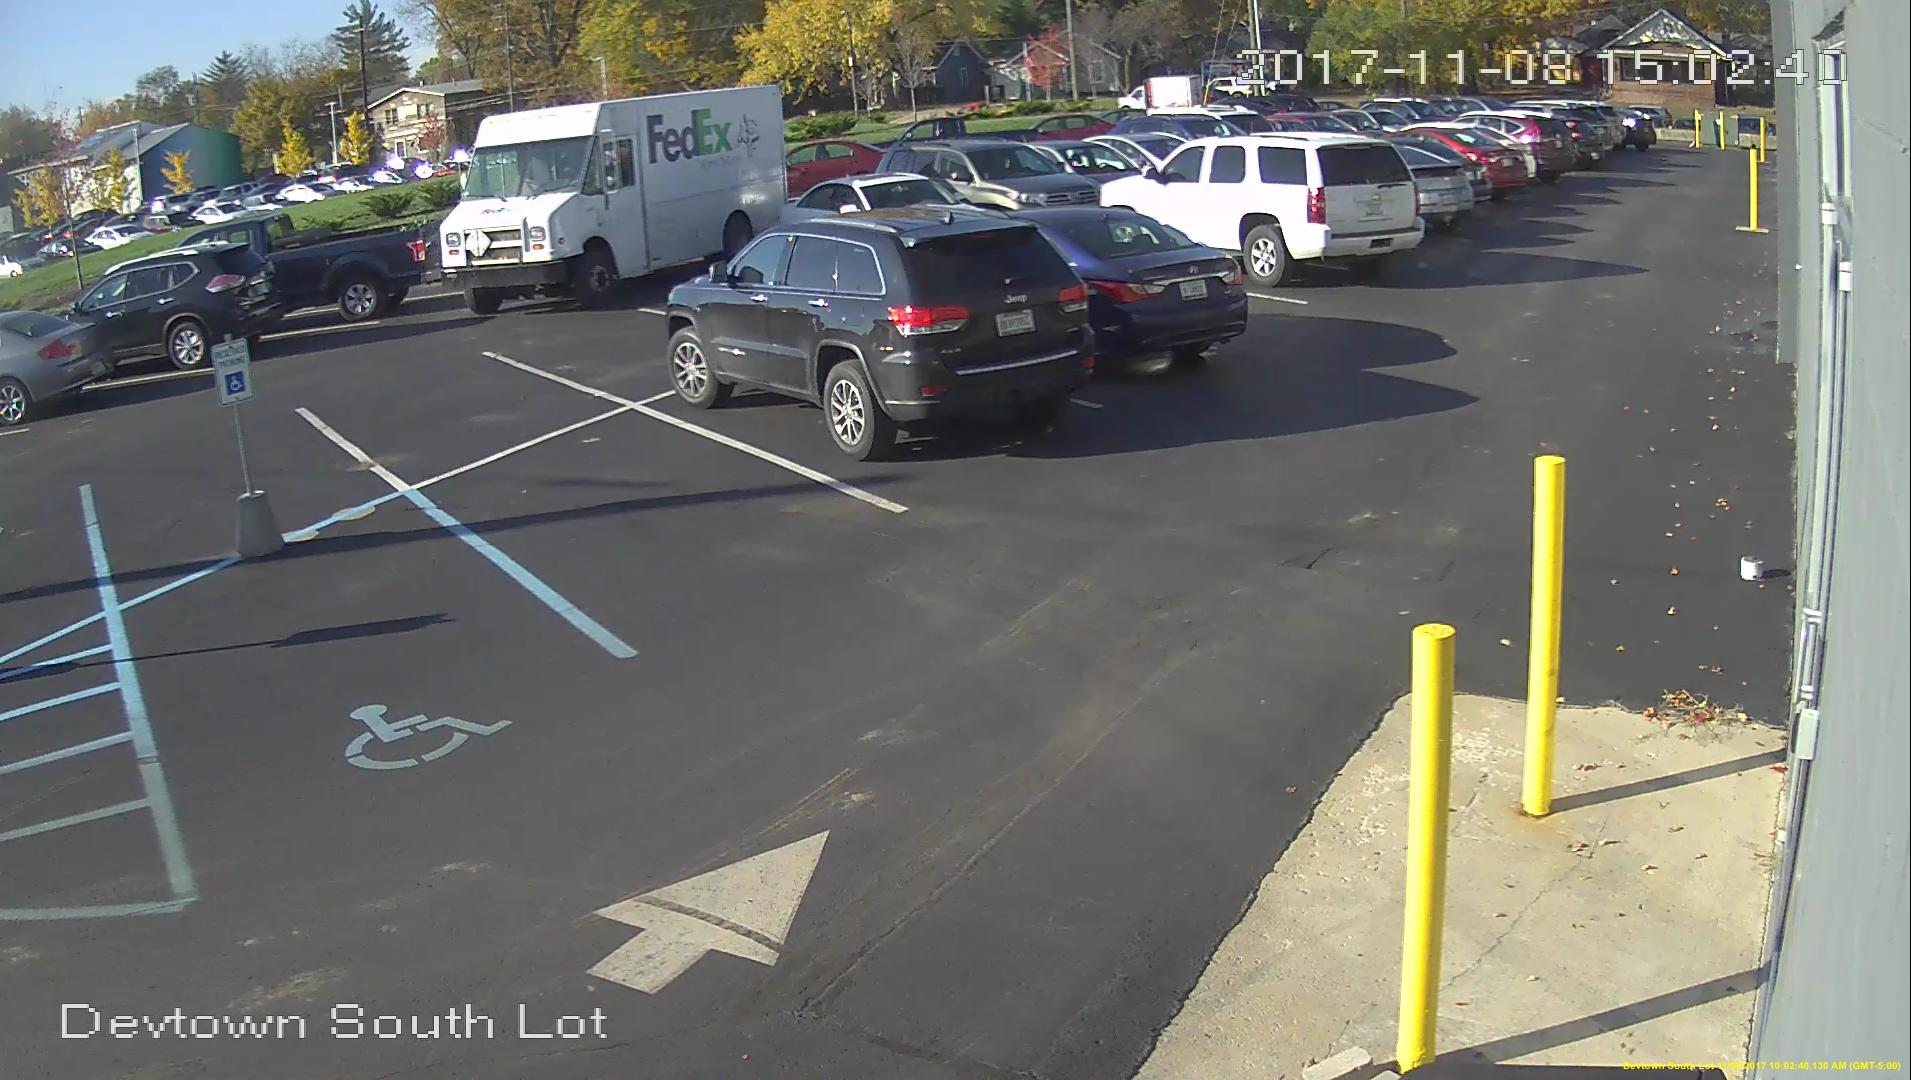fedex_truck: (432, 80, 795, 307)
